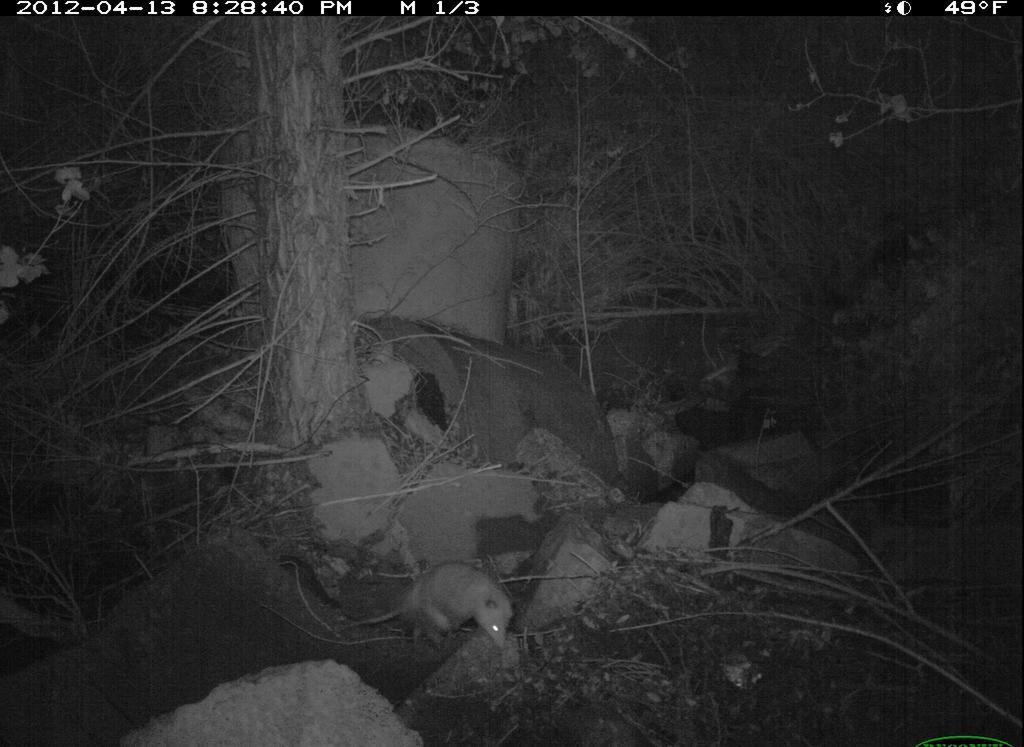opossum: (333, 560, 521, 658)
